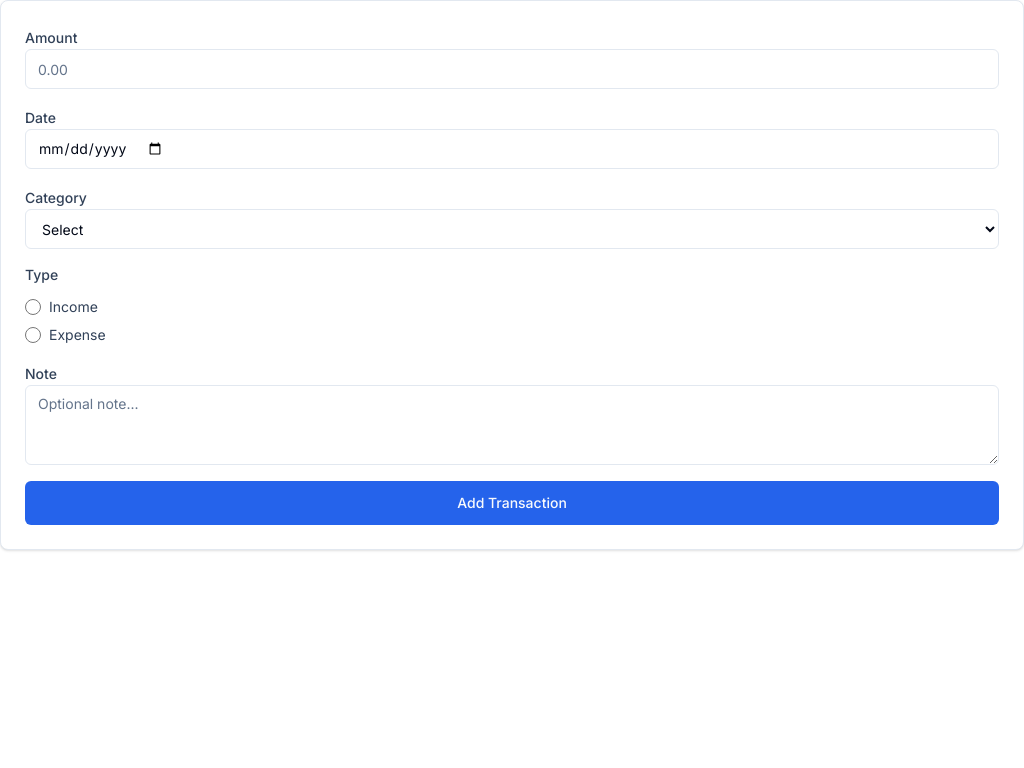
Test case: AddTransactionForm validation › displays error message for empty amount field
Fill all fields except amount
Step 1. Type "2025-08-01" into the date field labelled "Date" → (512, 149), box [25,129,999,169]
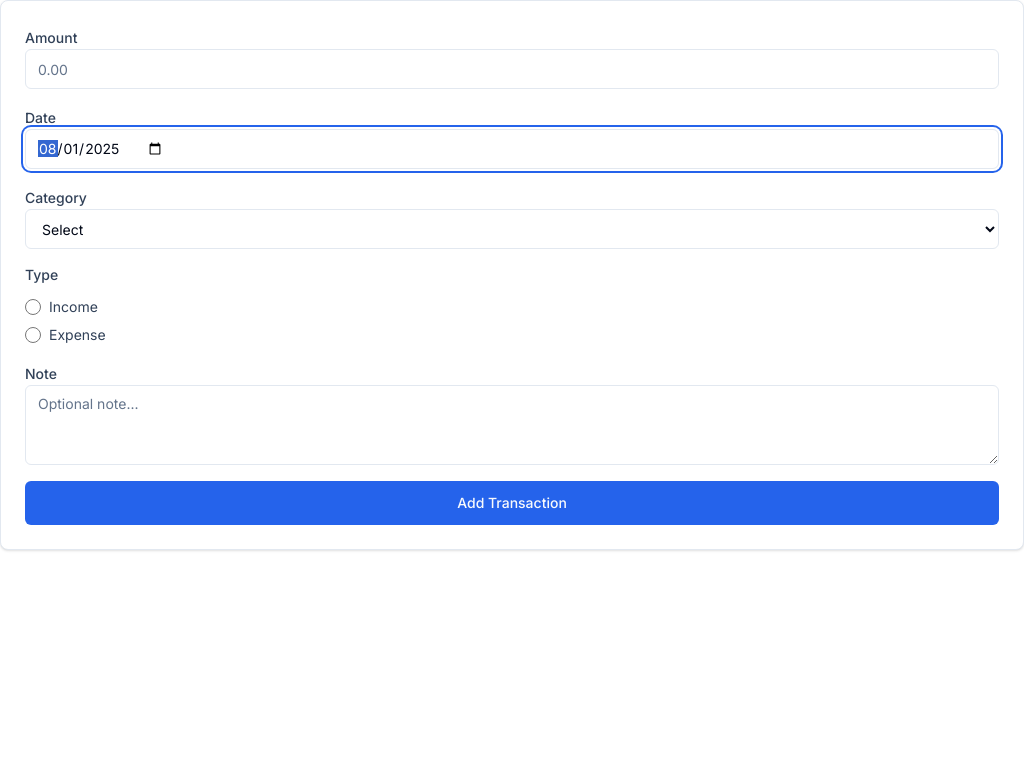
Step 2. Select "General" in the dropdown labelled "Category" → (512, 229), box [25,209,999,249]
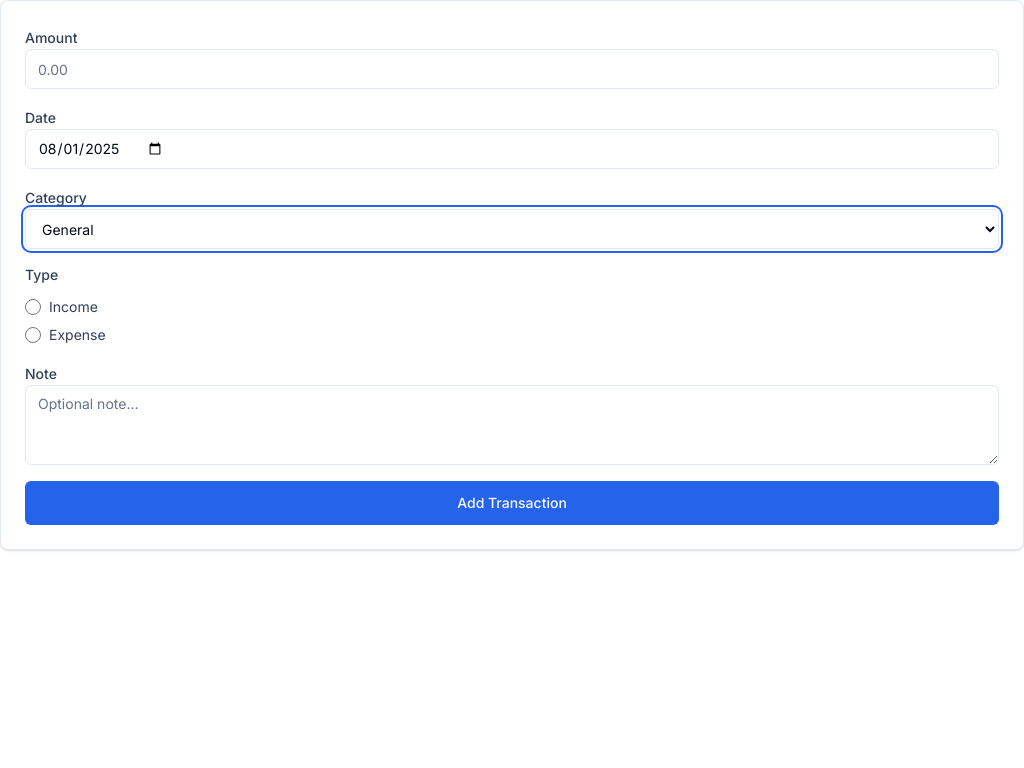
Step 3. Click the radio button labelled "Income" → (33, 307), box [25,299,41,315]
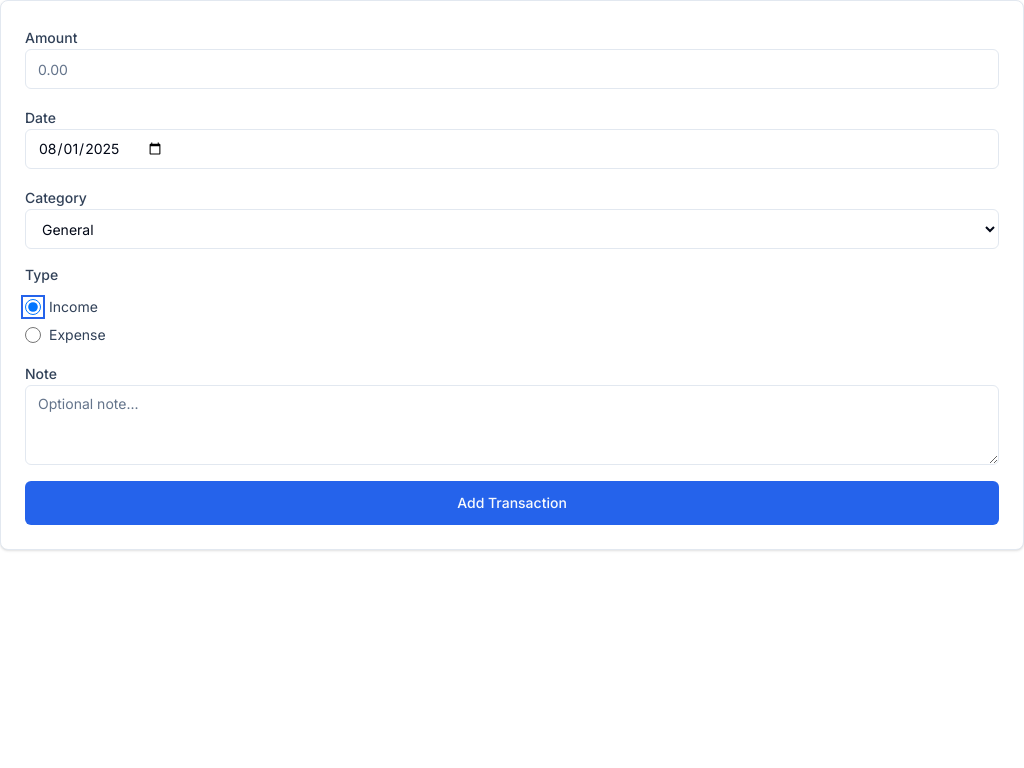
Step 4. Click the button "Add Transaction" → (512, 503), box [25,481,999,525]
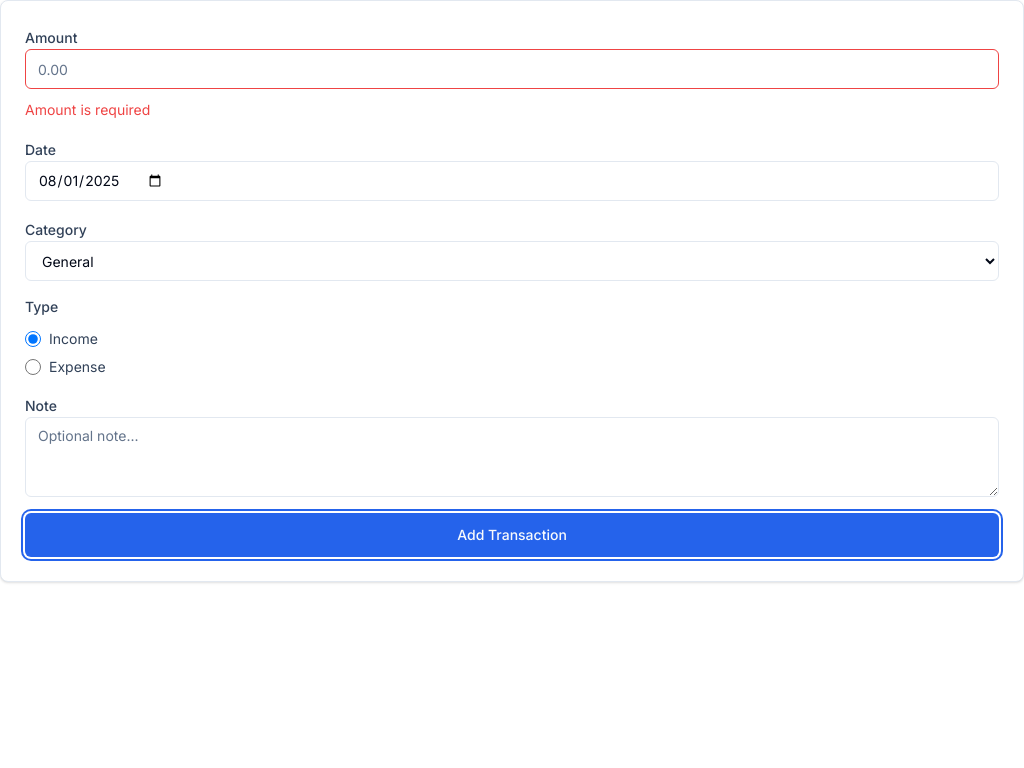
Expected: the text "Amount is required" is shown, [25,101,150,118]
